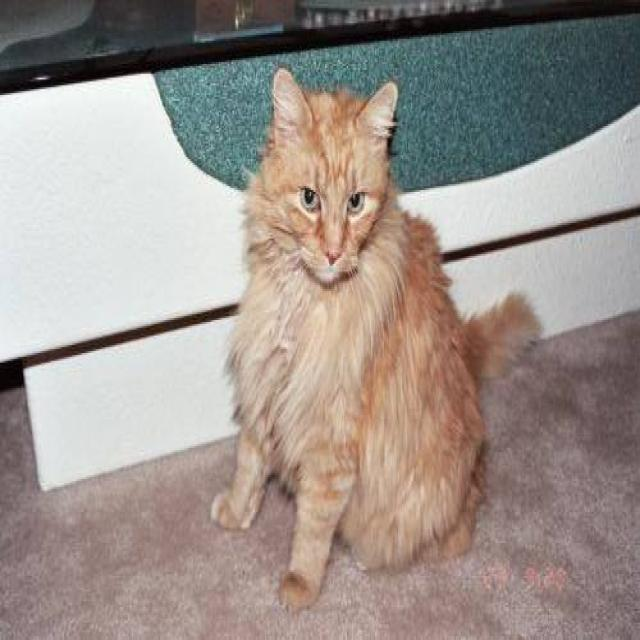cat: (208, 66, 542, 611)
